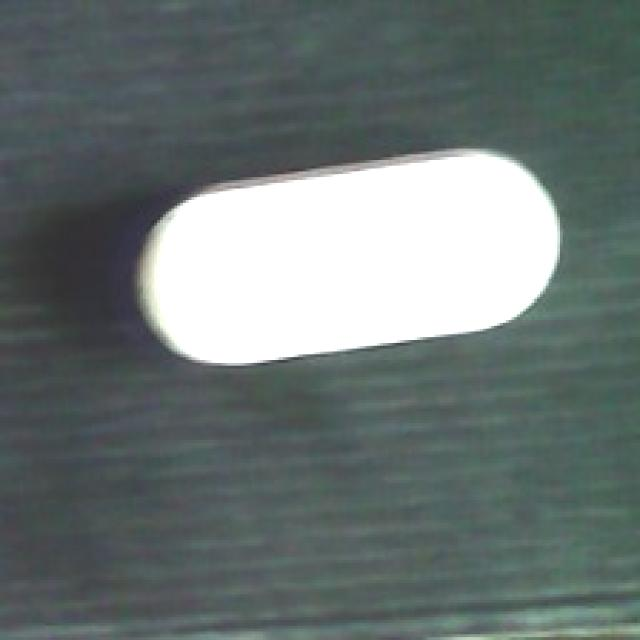no-defect: (137, 146, 569, 366)
